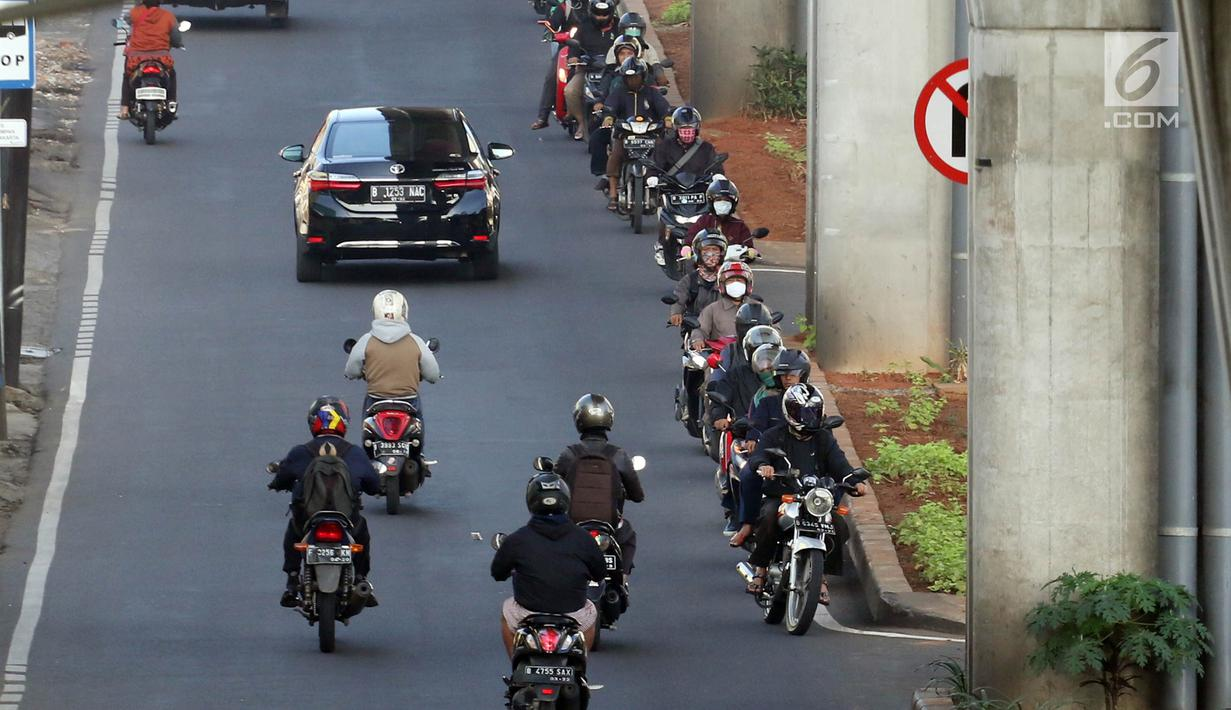car: (284, 102, 516, 293)
motorbike: (274, 389, 380, 657), (745, 384, 850, 634), (493, 479, 595, 710), (547, 394, 635, 652), (347, 289, 437, 525), (710, 332, 791, 548), (745, 346, 814, 552), (679, 230, 743, 428), (654, 107, 720, 287), (565, 3, 631, 163), (610, 62, 666, 245), (119, 7, 188, 143)
